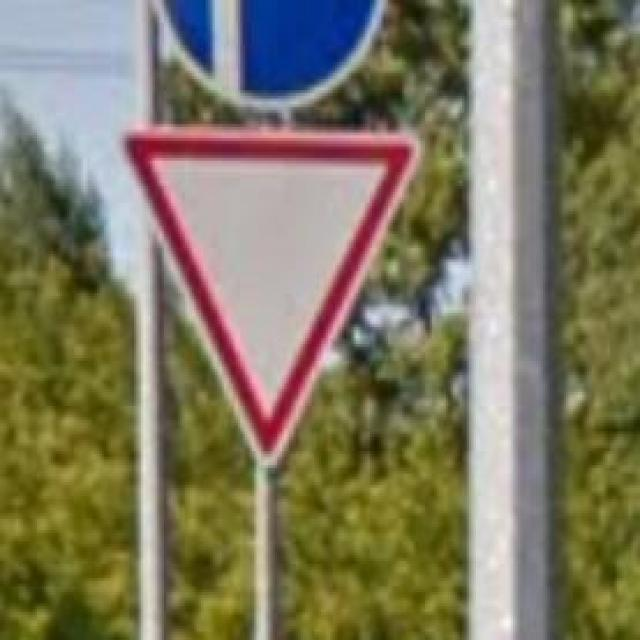Ustap pierwszenstwa: (113, 127, 423, 468)
